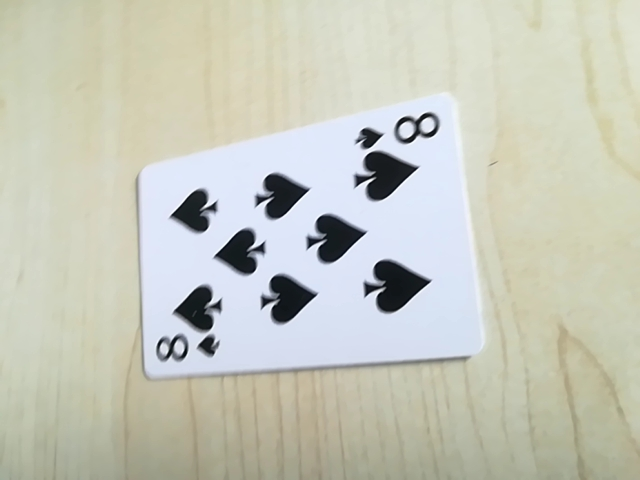ht 8: (355, 106, 452, 152), (150, 326, 226, 371)
